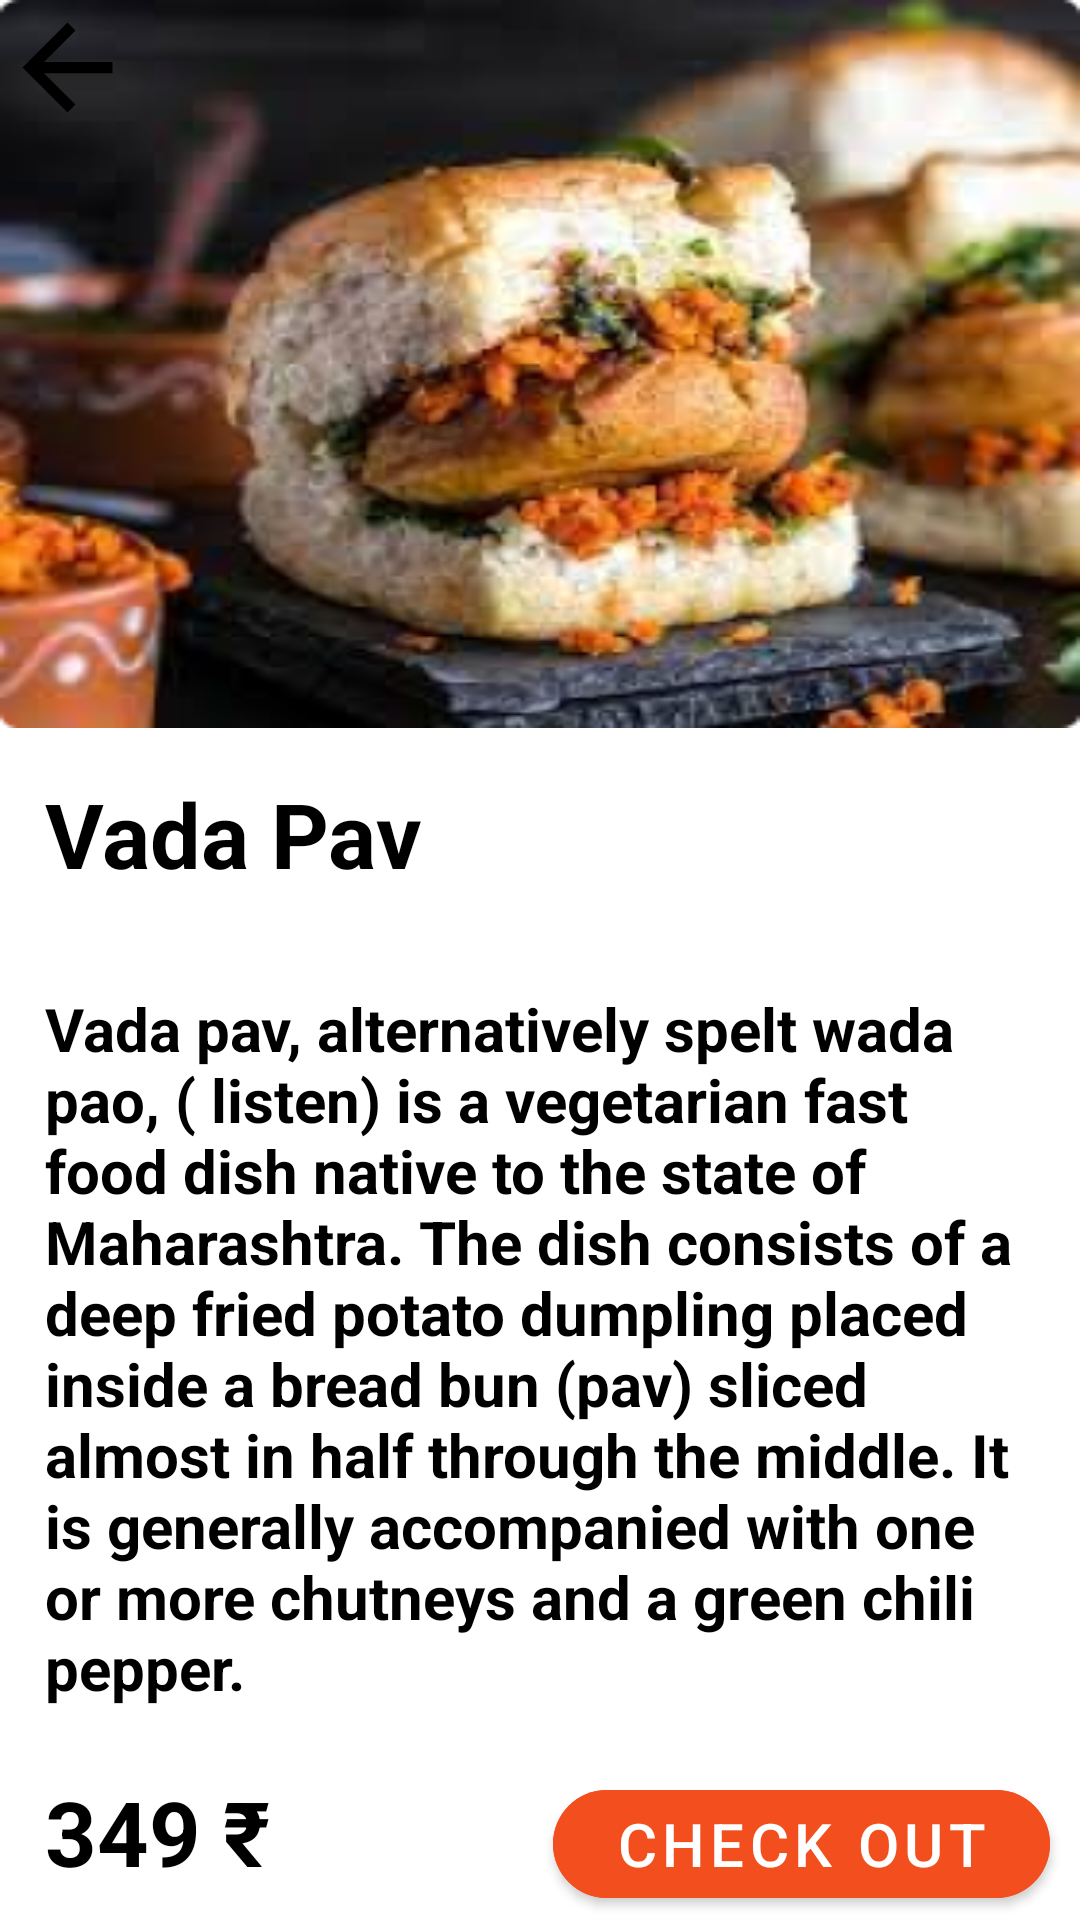

Named icons in this screenshot (1080w x 1920h) and their bounding boxes, (x1, y1, x2, y2):
back: (0, 0, 135, 135)
